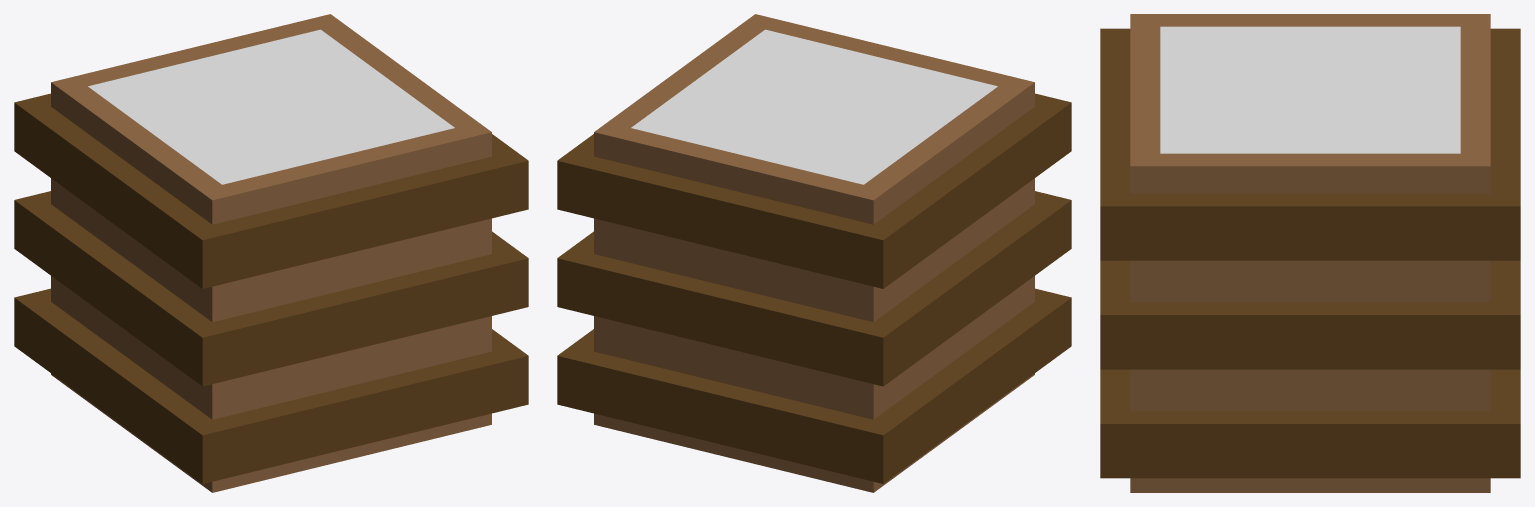
File: WoodenBarrel.fbx
3 views of the same model, side by side, from view 1: azimuth 30°, elevation 25°; view 2: azimuth 150°, elevation 25°; view 3: azimuth 270°, elevation 25° (orthographic). The views are drawn at different scales.
Parts seen in each view (by area): view 1: cube, Content, cube_12, cube_10, cube_11, cube_4, cube_5, cube_6, cube_1, cube_2, cube_3; view 2: cube, Content, cube_9, cube_7, cube_8, cube_4, cube_5, cube_6, cube_1, cube_2, cube_3; view 3: cube, Content, cube_1, cube_2, cube_3, cube_9, cube_12, cube_7, cube_8, cube_10, cube_11, cube_6.
Boxes of the visible parts, x1,y1,x2,y2 form: cube: (51,14,491,492); Content: (88,29,454,184); cube_12: (212,156,505,283); cube_10: (212,351,505,478); cube_11: (213,254,505,380); cube_4: (14,292,225,483); cube_5: (14,194,225,386); cube_6: (14,97,225,288); cube_1: (492,231,528,312); cube_2: (492,134,528,214); cube_3: (492,329,528,409); cube: (594,14,1034,492); Content: (631,29,997,184); cube_9: (580,156,873,283); cube_7: (580,351,873,478); cube_8: (580,254,872,380); cube_4: (860,292,1071,483); cube_5: (860,194,1071,386); cube_6: (860,97,1071,288); cube_1: (557,231,593,312); cube_2: (557,134,593,214); cube_3: (557,329,593,409); cube: (1130,14,1490,492); Content: (1160,26,1460,153); cube_1: (1100,302,1520,369); cube_2: (1100,193,1520,260); cube_3: (1100,411,1520,478); cube_9: (1490,41,1520,193); cube_12: (1100,41,1130,193); cube_7: (1490,369,1520,411); cube_8: (1490,260,1520,302); cube_10: (1100,369,1130,411); cube_11: (1100,260,1130,302); cube_6: (1100,28,1520,41).
Bounding box in the file's own units: 87.5 × 75 × 87.5.
Materials: 1 (1 with a texture image).
